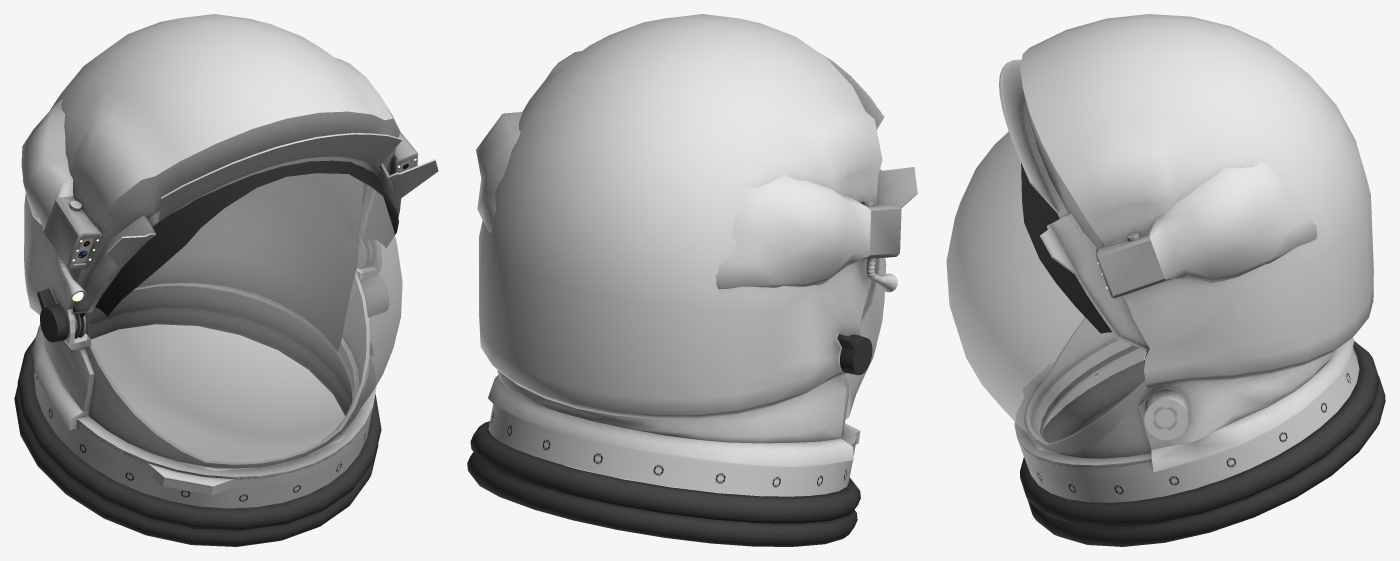
Rendered from astronaut_helmet_optimized.glb.
3 views of the same model, side by side, from view 1: azimuth 30°, elevation 25°; view 2: azimuth 150°, elevation 25°; view 3: azimuth 270°, elevation 25° (orthographic). The views are drawn at different scales.
Visible parts, largest first — view 1: Helmet-Body, Black-one_Standard_14_0; view 2: Helmet-Body; view 3: Helmet-Body, Black-one_Standard_14_0.
Part boxes in pixels (x1,y1,x2,y2): Helmet-Body: (14, 14, 438, 546); Black-one_Standard_14_0: (79, 160, 398, 318); Helmet-Body: (467, 14, 917, 546); Helmet-Body: (946, 14, 1385, 546); Black-one_Standard_14_0: (1021, 163, 1147, 351).
Size of the model in its own units: 29.92 by 37.87 by 31.84.
Materials: 3 (2 with a texture image).
